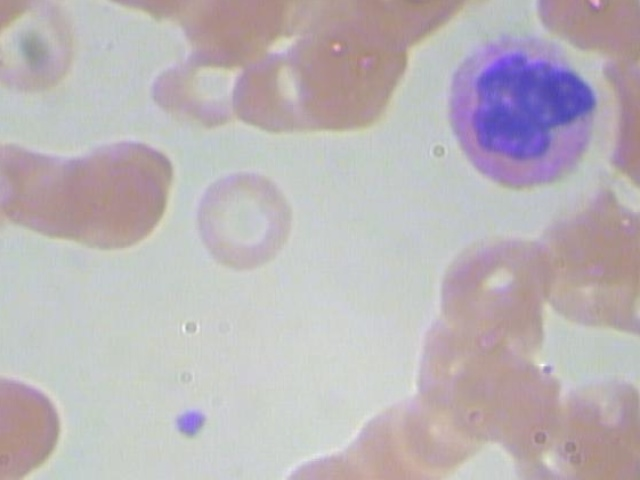Platelets: (166, 403, 213, 440)
RBC: (49, 132, 181, 259), (284, 17, 417, 141), (426, 228, 558, 340), (184, 163, 303, 276), (146, 38, 251, 129), (0, 366, 79, 476), (0, 0, 92, 93), (527, 0, 640, 70)
WBC: (439, 22, 611, 193)
